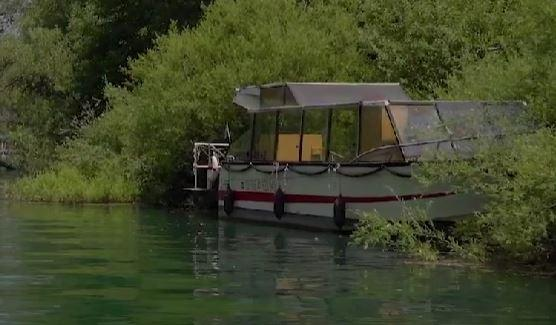Ship: (188, 87, 533, 222)
